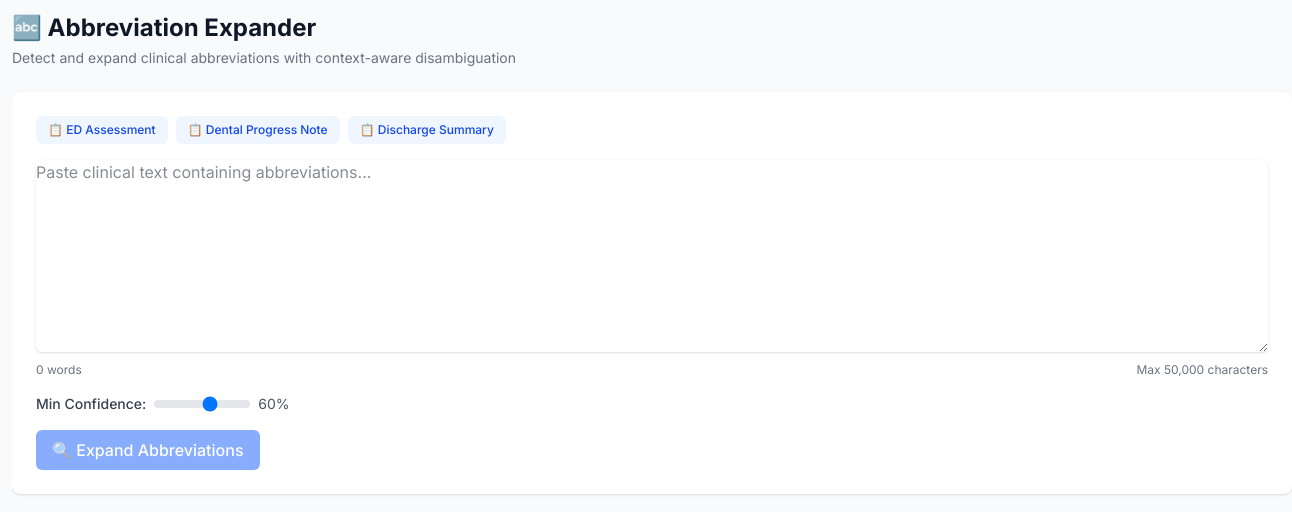
Test: AbbreviationExpander — Sample Notes › enables analyze button after loading sample
The width and height of the screenshot is (1292, 512).
Click the button "📋 ED Assessment" at {"x": 102, "y": 130}, box 36,116 -> 168,144
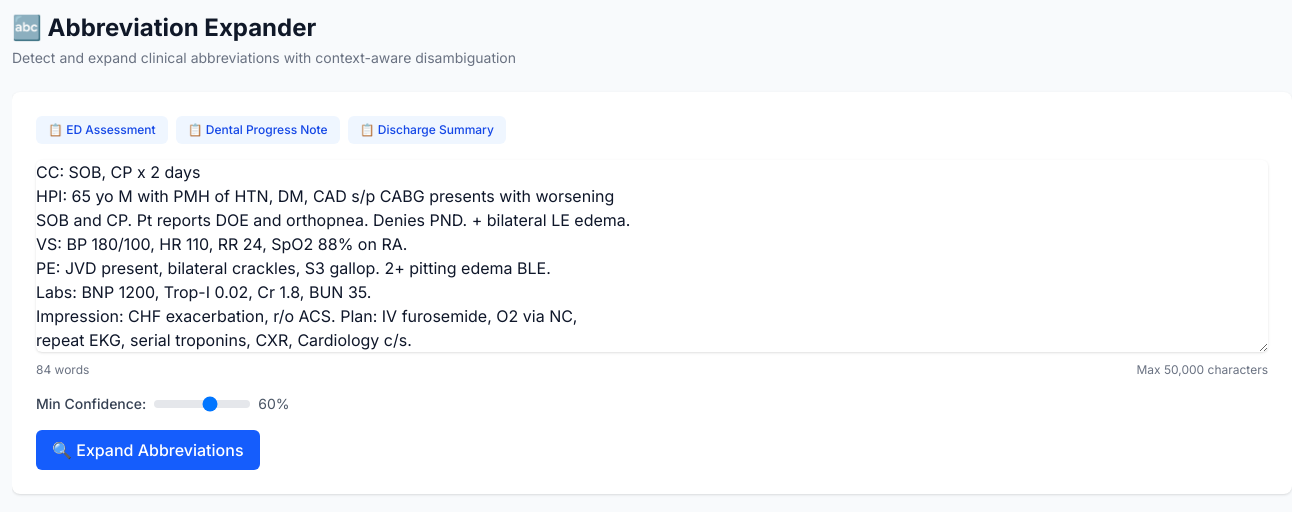
Expected: the button "🔍 Expand Abbreviations" is enabled, 36,430 -> 260,470
